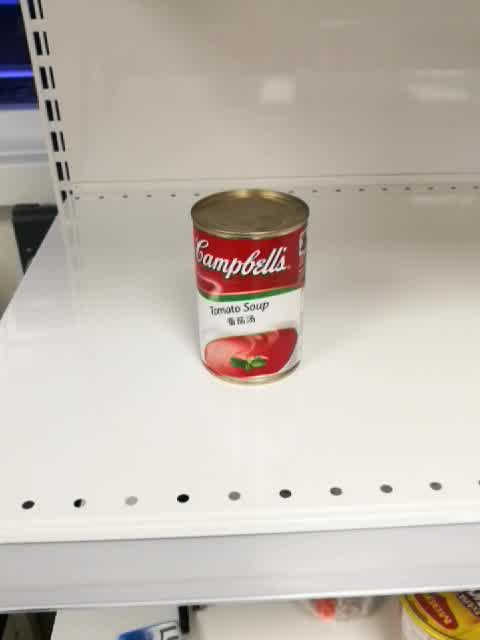tomatosoup: (190, 189, 310, 387)
